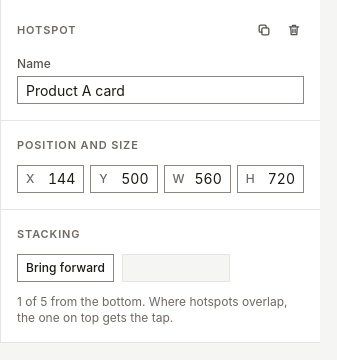
Test: HotspotPanel › position and size (spec HS-2, ED-10) › goes back to following the hotspot after a valid edit
This screenshot has width=337, height=360.
Replace the text in the field labelled "X" with "200": (58, 179) [40,169,75,189]
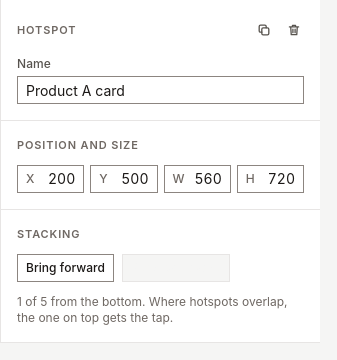
Leave the field labelled "X", box [40,169,75,189]
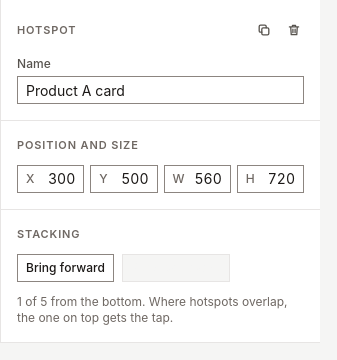
expect the field labelled "X" holds "300": met, box [40,169,75,189]
